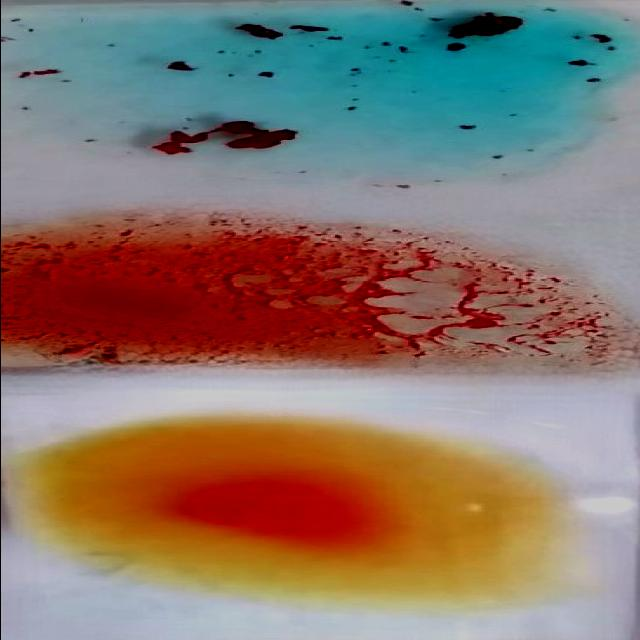A: (0, 2, 632, 182)
D: (14, 218, 624, 368)
